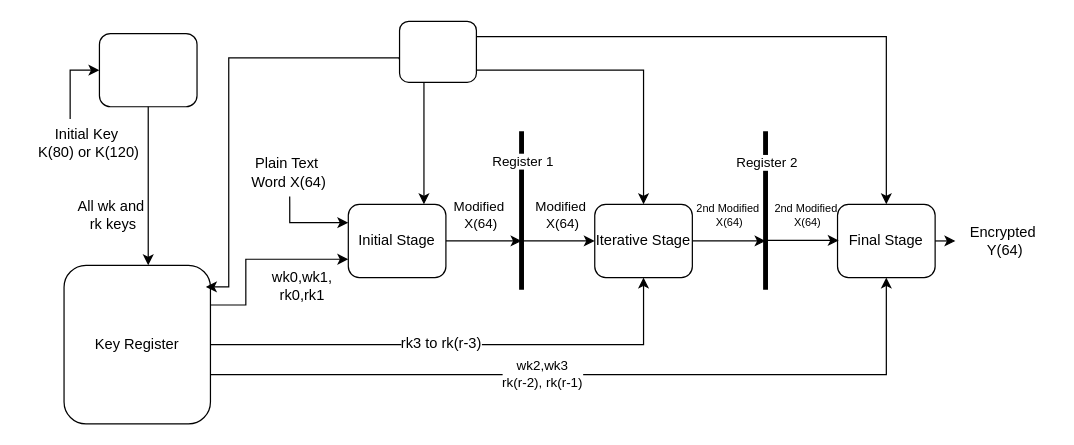
Some shapes in this 1074 by 445 pixel diagram are drawn without their labels. The box of each missing label's shape, as (x1, y1, x2, y2) in pixels:
FSM: (398, 20, 476, 82)
Key Scheduling: (98, 32, 197, 107)
